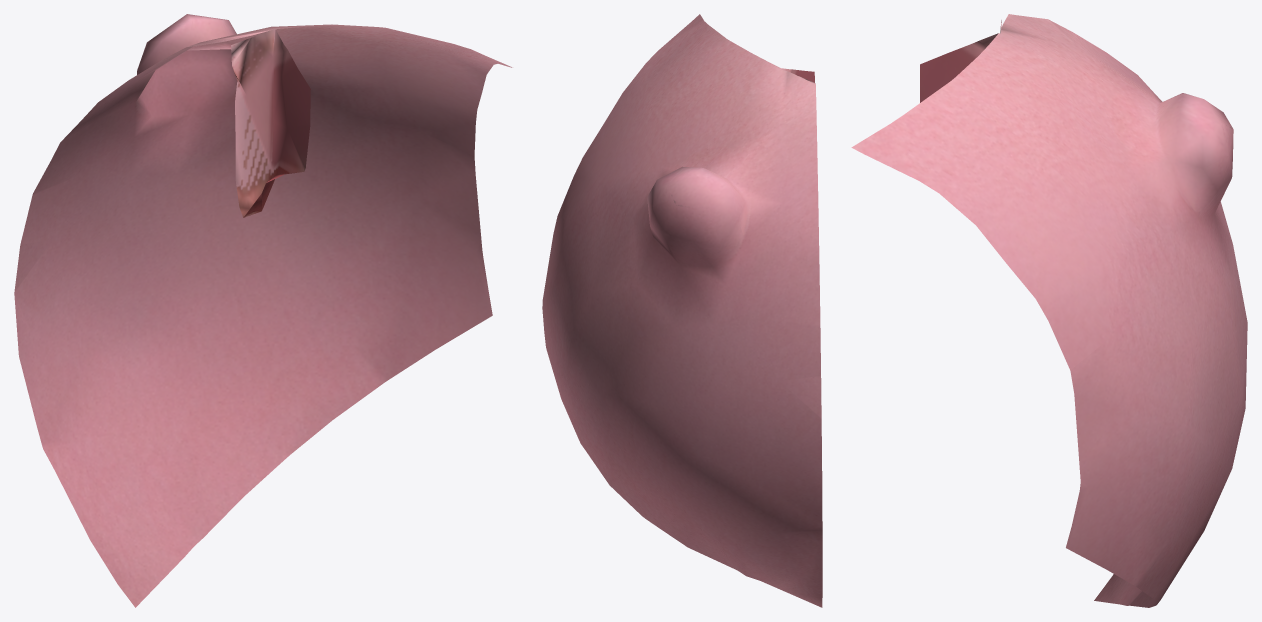
File: PiggyFragment07.glb
The picture shows the model from 3 angles, left to right: view 1: azimuth 30°, elevation 25°; view 2: azimuth 150°, elevation 25°; view 3: azimuth 270°, elevation 25°; orthographic projection. The views are drawn at different scales.
Parts seen in each view (by area): view 1: Piece; view 2: Piece; view 3: Piece.
Boxes of the visible parts, x1,y1,x2,y2 form: Piece: [14, 14, 512, 607]; Piece: [542, 14, 822, 607]; Piece: [851, 14, 1247, 607].
Size of the model in its own units: 0.4729 by 0.6589 by 0.3839.
Materials: 1 (1 with a texture image).
